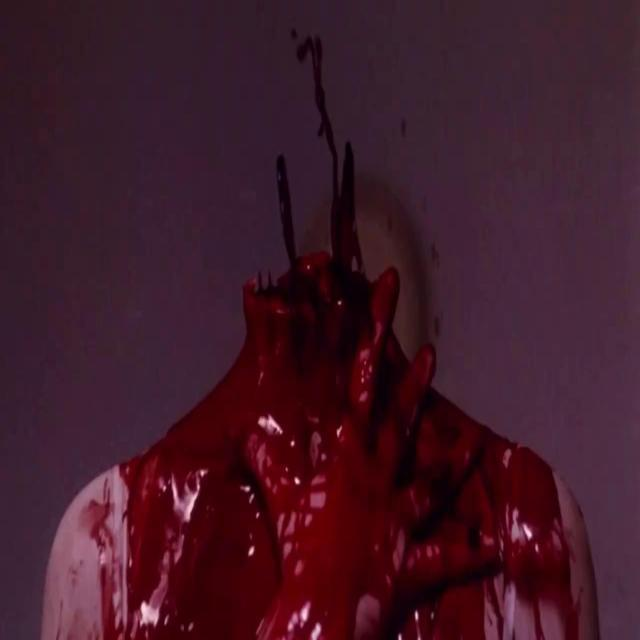flood: (124, 10, 558, 640)
